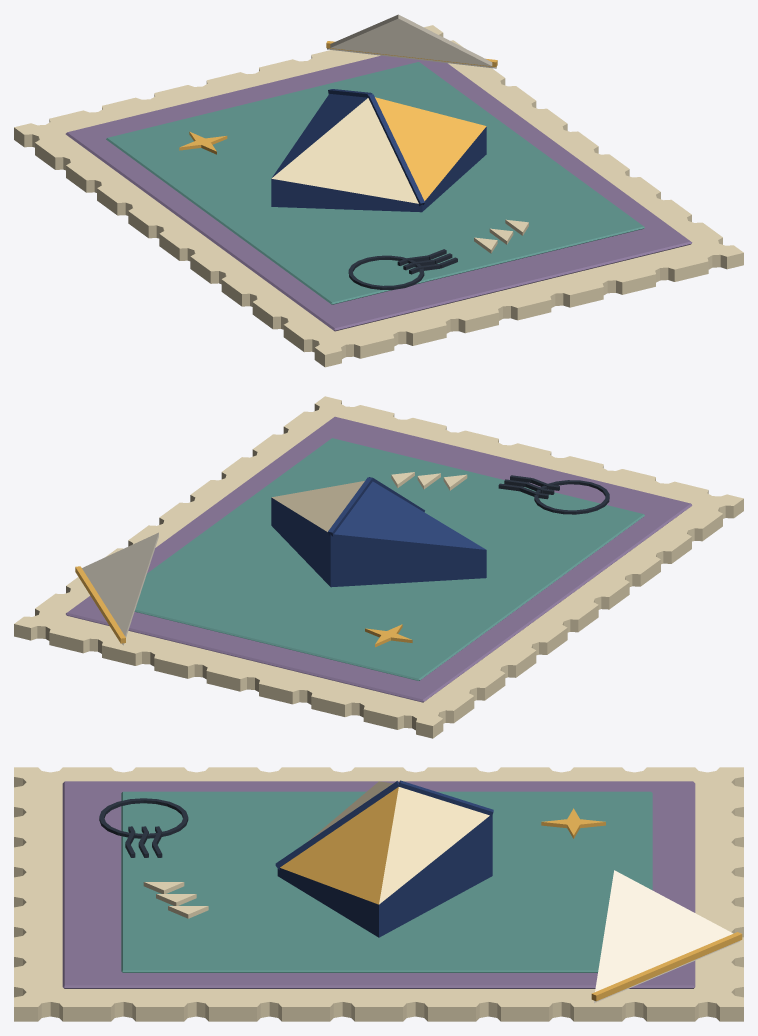
Rendered from magic_fold_stamp.glb.
3 renders of one model, top to bottom at view 1: azimuth 30°, elevation 25°; view 2: azimuth 150°, elevation 25°; view 3: azimuth 270°, elevation 25°, orthographic. The views are drawn at different scales.
Parts seen in each view (by area): view 1: magic_fold_stamp__teal_fold_field, magic_fold_stamp__perforated_paper.001, magic_fold_stamp__purple_print_border, magic_fold_stamp__origami_fold_relief, magic_fold_stamp__lifted_fold_corner.001, magic_fold_stamp, magic_fold_stamp__postmark_circle.001; view 2: magic_fold_stamp__teal_fold_field, magic_fold_stamp__perforated_paper.001, magic_fold_stamp__purple_print_border, magic_fold_stamp__origami_fold_relief, magic_fold_stamp__lifted_fold_corner.001, magic_fold_stamp, magic_fold_stamp__postmark_circle.001, magic_fold_stamp__corner_hinge; view 3: magic_fold_stamp__teal_fold_field, magic_fold_stamp__perforated_paper.001, magic_fold_stamp__purple_print_border, magic_fold_stamp__origami_fold_relief, magic_fold_stamp__lifted_fold_corner.001, magic_fold_stamp, magic_fold_stamp__corner_hinge, magic_fold_stamp__postmark_circle.001, magic_fold_stamp__fold_glint.001.
Part boxes in pixels (x1,y1,x2,y2): magic_fold_stamp__teal_fold_field: (106, 62, 644, 304); magic_fold_stamp__perforated_paper.001: (14, 25, 743, 367); magic_fold_stamp__purple_print_border: (65, 55, 692, 331); magic_fold_stamp__origami_fold_relief: (271, 93, 486, 212); magic_fold_stamp__lifted_fold_corner.001: (327, 14, 496, 68); magic_fold_stamp: (328, 89, 457, 274); magic_fold_stamp__postmark_circle.001: (348, 255, 424, 289); magic_fold_stamp__teal_fold_field: (134, 438, 644, 680); magic_fold_stamp__perforated_paper.001: (14, 396, 743, 738); magic_fold_stamp__purple_print_border: (66, 416, 692, 702); magic_fold_stamp__origami_fold_relief: (271, 481, 486, 587); magic_fold_stamp__lifted_fold_corner.001: (82, 532, 158, 645); magic_fold_stamp: (328, 475, 559, 536); magic_fold_stamp__postmark_circle.001: (534, 480, 609, 514); magic_fold_stamp__corner_hinge: (75, 566, 125, 643); magic_fold_stamp__teal_fold_field: (121, 791, 652, 972); magic_fold_stamp__perforated_paper.001: (14, 767, 743, 1021); magic_fold_stamp__purple_print_border: (62, 781, 695, 988); magic_fold_stamp__origami_fold_relief: (277, 781, 492, 937); magic_fold_stamp__lifted_fold_corner.001: (594, 870, 739, 1003); magic_fold_stamp: (125, 780, 493, 869); magic_fold_stamp__corner_hinge: (591, 932, 742, 1001); magic_fold_stamp__postmark_circle.001: (99, 798, 188, 838); magic_fold_stamp__fold_glint.001: (541, 808, 605, 838).
Size of the model in its own units: 0.1406 by 0.0327 by 0.18.
